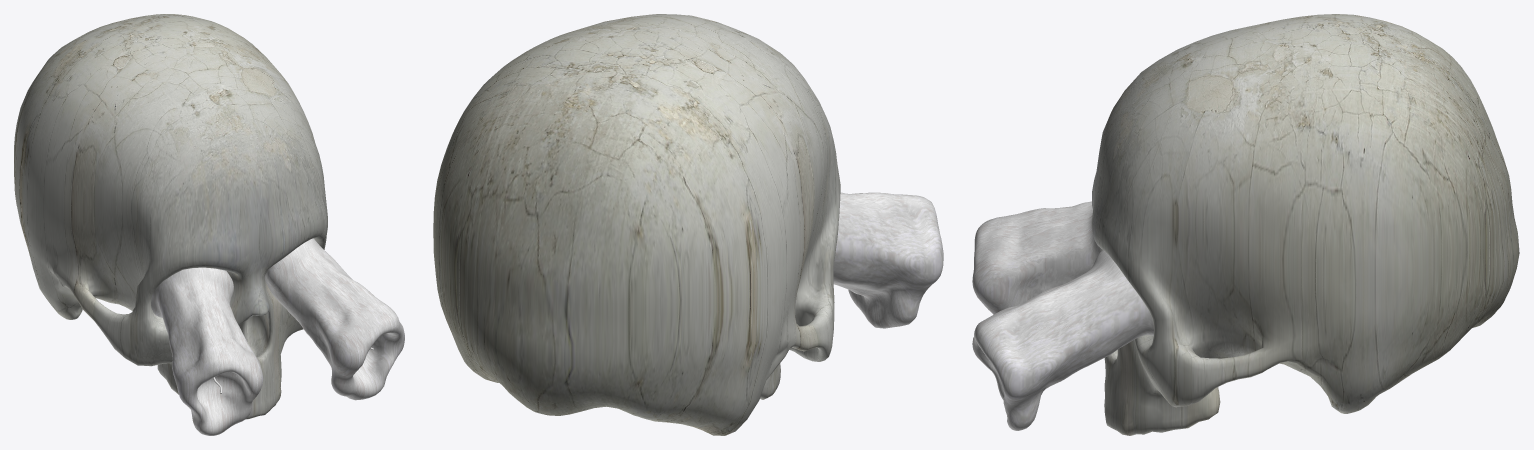
Rendered from crane.FBX.
3 views of the same model, side by side, from view 1: azimuth 30°, elevation 25°; view 2: azimuth 150°, elevation 25°; view 3: azimuth 270°, elevation 25° (orthographic). The views are drawn at different scales.
Visible parts, largest first — view 1: Group23720, Group29689, Group29688; view 2: Group23720, Group29689; view 3: Group23720, Group29688, Group29689.
Part boxes in pixels (<box>): Group23720: <box>14,14,327,419</box>; Group29689: <box>151,267,263,435</box>; Group29688: <box>264,238,404,400</box>; Group23720: <box>433,14,840,435</box>; Group29689: <box>833,192,943,328</box>; Group23720: <box>1091,14,1519,435</box>; Group29688: <box>972,249,1153,430</box>; Group29689: <box>972,201,1100,314</box>.
Size of the model in its own units: 4.88 by 6.07 by 7.82.
